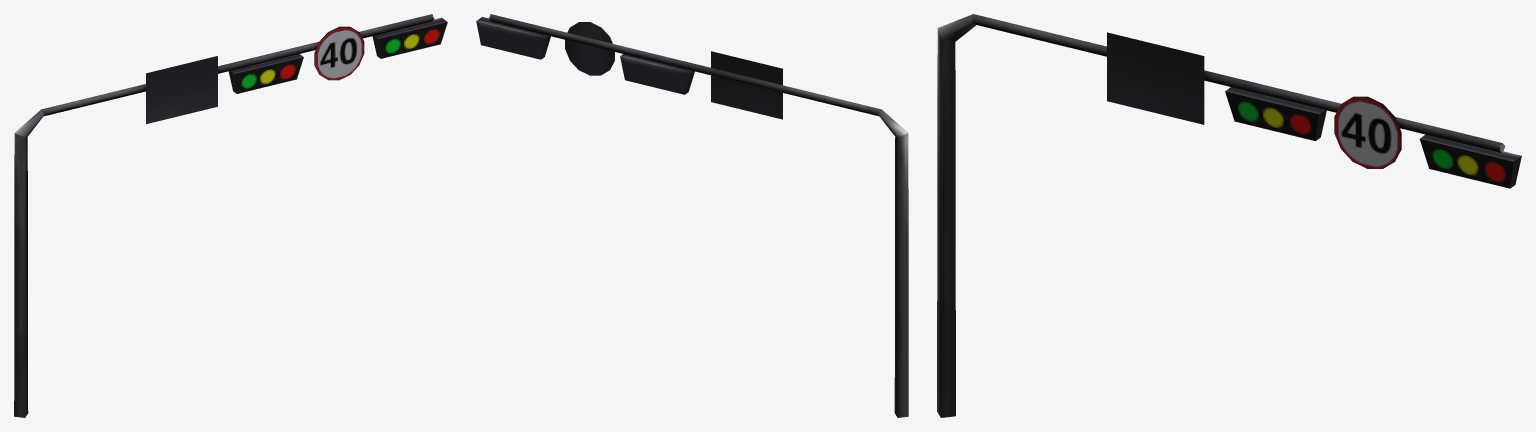
Rendered from trafficlights_01.FBX.
3 views of the same model, side by side, from view 1: azimuth 30°, elevation 25°; view 2: azimuth 150°, elevation 25°; view 3: azimuth 330°, elevation 25° (orthographic). The views are drawn at different scales.
Parts seen in each view (by area): view 1: trafficlights_01; view 2: trafficlights_01; view 3: trafficlights_01.
Part boxes in pixels (box(x1,y1,x2,y2)): trafficlights_01: box(14, 14, 447, 417); trafficlights_01: box(476, 14, 908, 417); trafficlights_01: box(937, 14, 1521, 417).
Bounding box in the file's own units: 1201 × 838 × 39.16.
